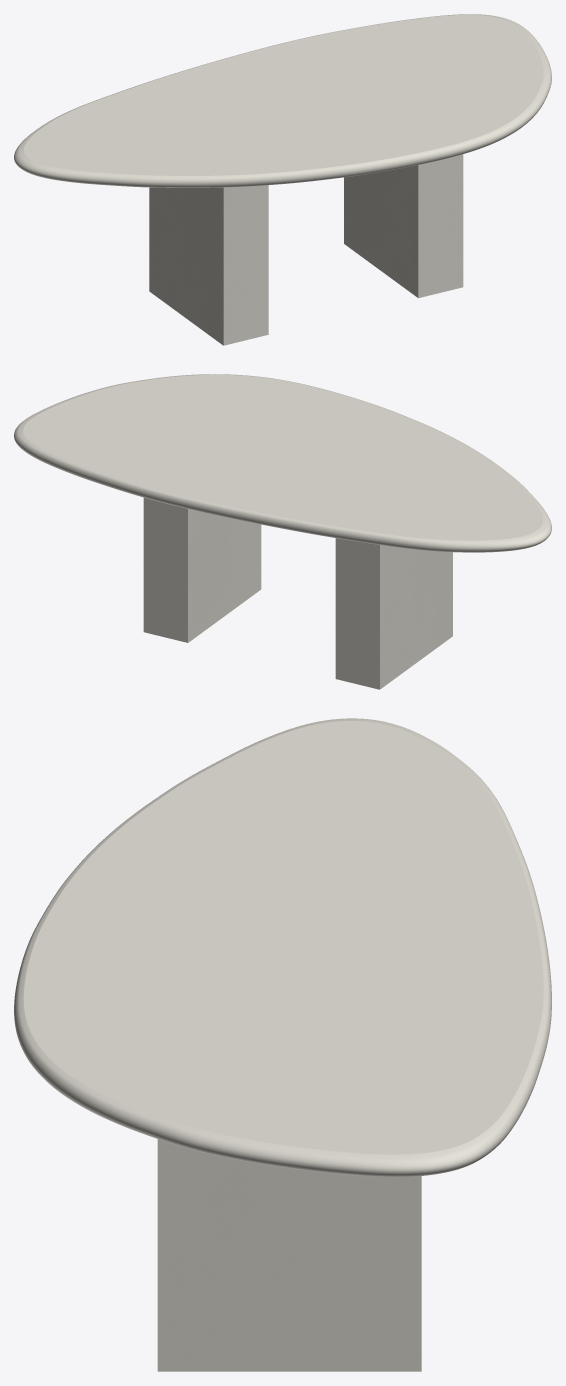
The model's file is pale_pebbletop_round_ridge.glb.
The picture shows the model from 3 angles, top to bottom: view 1: azimuth 30°, elevation 25°; view 2: azimuth 150°, elevation 25°; view 3: azimuth 270°, elevation 25°; orthographic projection. The views are drawn at different scales.
Parts seen in each view (by area): view 1: round_pebbletop, ridge; view 2: round_pebbletop, ridge; view 3: round_pebbletop, ridge.
Part boxes in pixels (x1,y1,x2,y2): round_pebbletop: (14,14,551,187); ridge: (149,154,463,345); round_pebbletop: (14,374,551,552); ridge: (143,497,452,689); round_pebbletop: (14,718,551,1176); ridge: (157,1139,421,1371).
Bounding box in the file's own units: 7.5 × 2.51 × 3.8.
1 material, 1 textured.
